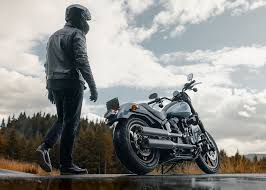motorcycle: (101, 72, 222, 178)
